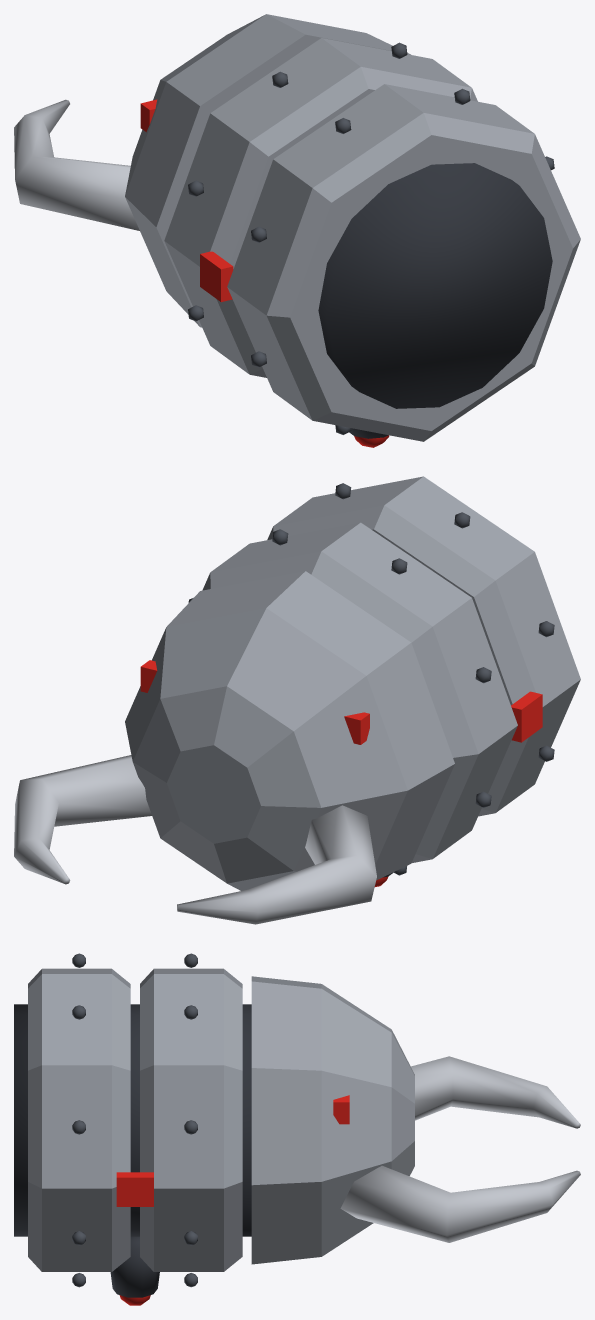
The model's file is the_destroyer_head.glb.
The picture shows the model from 3 angles, top to bottom: view 1: azimuth 30°, elevation 25°; view 2: azimuth 150°, elevation 25°; view 3: azimuth 270°, elevation 25°; orthographic projection. The views are drawn at different scales.
Parts seen in each view (by area): view 1: the_destroyer_head; view 2: the_destroyer_head; view 3: the_destroyer_head.
Boxes of the visible parts, <box> form: the_destroyer_head: <box>14,14,580,447</box>; the_destroyer_head: <box>14,476,580,924</box>; the_destroyer_head: <box>14,953,580,1305</box>.
Size of the model in its own units: 2.07 by 2.03 by 3.16.
